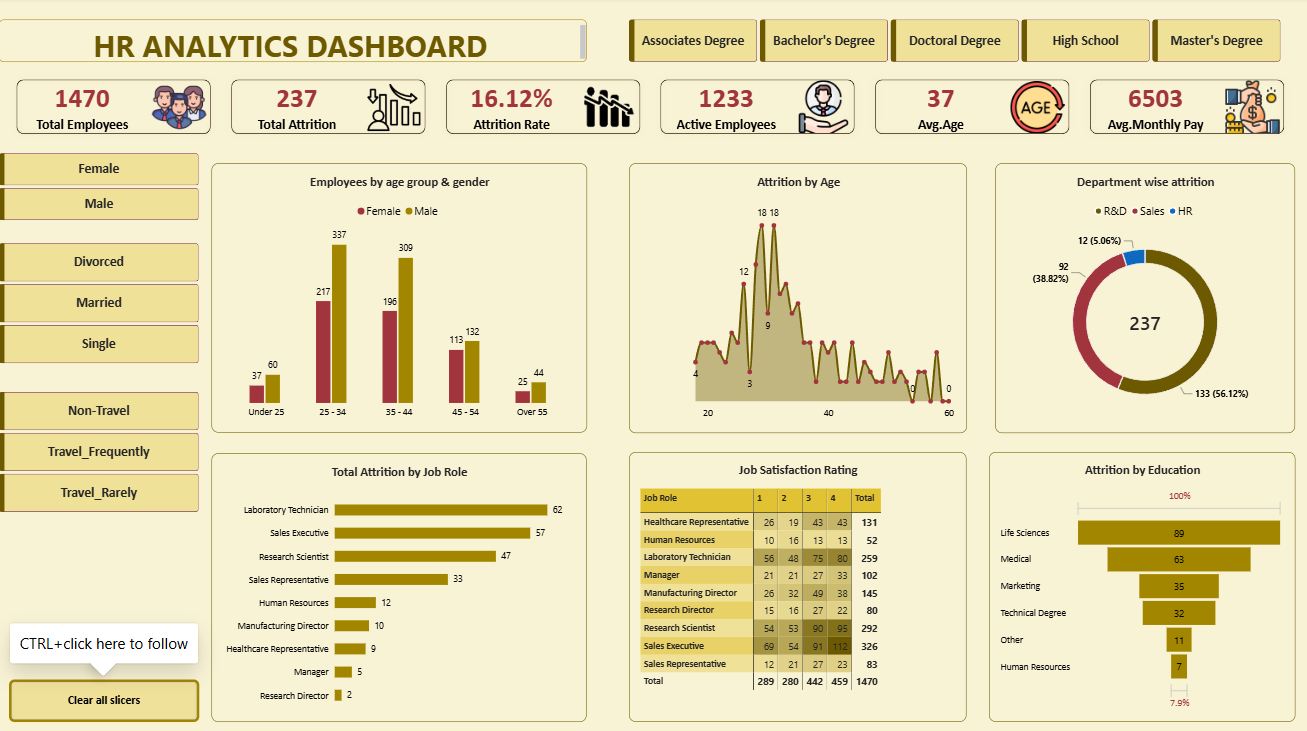

The dashboard page shown, as its layout file describes it:
{"tool":"powerbi","page":{"name":"Page 1","canvas":[1920,1080],"ordinal":0},"visuals":[{"type":"cardVisual","fields":{"Data":["HR data (2).Total Employees","HR data (2).Total Attrition","HR data (2).Attrition Rate","HR data (2).Active Employees","Avg(HR data (2).Age)","Avg(HR data (2).Monthly Income)"]},"box":[14.7,110.1,1885.6,102.7],"z":0},{"type":"clusteredColumnChart","title":" Employees by age group & gender","fields":{"Category":["HR data (2).Age Group"],"Series":["HR data (2).Gender"],"Y":["HR data (2).Total Employees"]},"box":[310.9,243.6,551.1,395.6],"z":1000},{"type":"areaChart","title":"Attrition by Age","fields":{"Category":["HR data (2).Age"],"Y":["HR data (2).Total Attrition"]},"box":[923.6,243.6,496.4,396.4],"z":2000},{"type":"donutChart","title":" Department wise attrition","fields":{"Category":["HR data (2).Department"],"Y":["HR data (2).Total Attrition"]},"box":[1461.8,243.6,440,396.4],"z":3000},{"type":"clusteredBarChart","fields":{"Category":["HR data (2).Job Role"],"Y":["HR data (2).Total Attrition"]},"box":[311.8,669.5,550.3,394.4],"z":4000},{"type":"pivotTable","title":"Job Satisfaction Rating","fields":{"Columns":["HR data (2).Job Satisfaction"],"Rows":["HR data (2).Job Role"],"Values":["HR data (2).Total Employees"]},"box":[924.5,667.7,495.2,396.2],"z":5000},{"type":"funnel","title":" Attrition by Education","fields":{"Category":["HR data (2).Education Field"],"Y":["HR data (2).Total Attrition"]},"box":[1452.7,667.7,449.4,396.2],"z":6000},{"type":"advancedSlicerVisual","fields":{"Values":["HR data (2).Gender"]},"box":[0,229.3,293.5,99],"z":7000},{"type":"advancedSlicerVisual","fields":{"Values":["HR data (2).Marital Status"]},"box":[0,361.3,293.5,177.9],"z":8000},{"type":"advancedSlicerVisual","fields":{"Values":["HR data (2).Business Travel"]},"box":[0,579.6,293.5,177.9],"z":9000},{"type":"advancedSlicerVisual","fields":{"Values":["HR data (2).Education"]},"box":[924.5,33,959.3,62.4],"z":10000},{"type":"actionButton","box":[14.7,1001.5,278.8,62.4],"z":11000},{"type":"textbox","box":[0,33,862.1,62.4],"z":13000}]}

Visuals, with their boxes in screenshot pixels (x1, y1, x2, y2), scaled from the page's 1920x1080 canvas onto the 1307x731 screenshot:
cardVisual - HR data (2).Total Employees x HR data (2).Total Attrition: [10,75,1294,144]
" Employees by age group & gender" clusteredColumnChart: [212,165,587,433]
"Attrition by Age" areaChart: [629,165,967,433]
" Department wise attrition" donutChart: [995,165,1295,433]
clusteredBarChart - HR data (2).Job Role x HR data (2).Total Attrition: [212,453,587,720]
"Job Satisfaction Rating" pivotTable: [629,452,966,720]
" Attrition by Education" funnel: [989,452,1295,720]
advancedSlicerVisual - HR data (2).Gender: [0,155,200,222]
advancedSlicerVisual - HR data (2).Marital Status: [0,245,200,365]
advancedSlicerVisual - HR data (2).Business Travel: [0,392,200,513]
advancedSlicerVisual - HR data (2).Education: [629,22,1282,65]
actionButton: [10,678,200,720]
textbox: [0,22,587,65]
